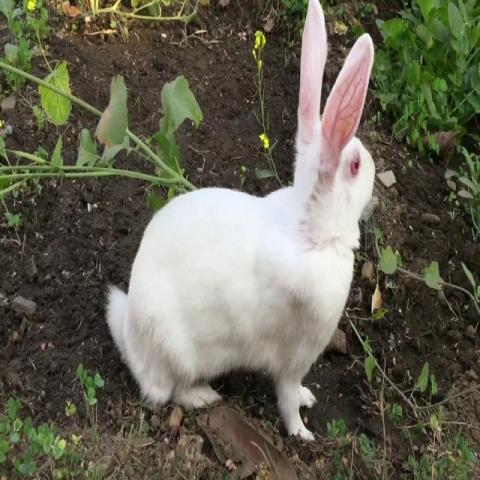small_animal: (103, 0, 379, 443)
